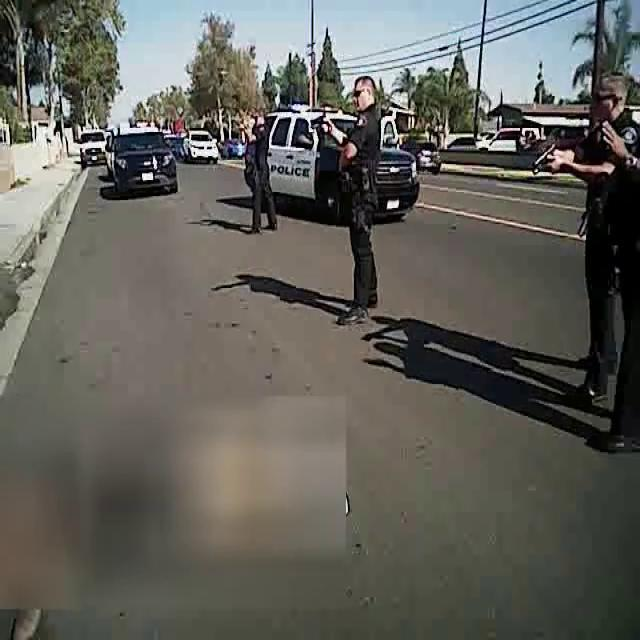gun: (520, 124, 554, 188), (301, 106, 333, 137), (235, 116, 252, 140)
